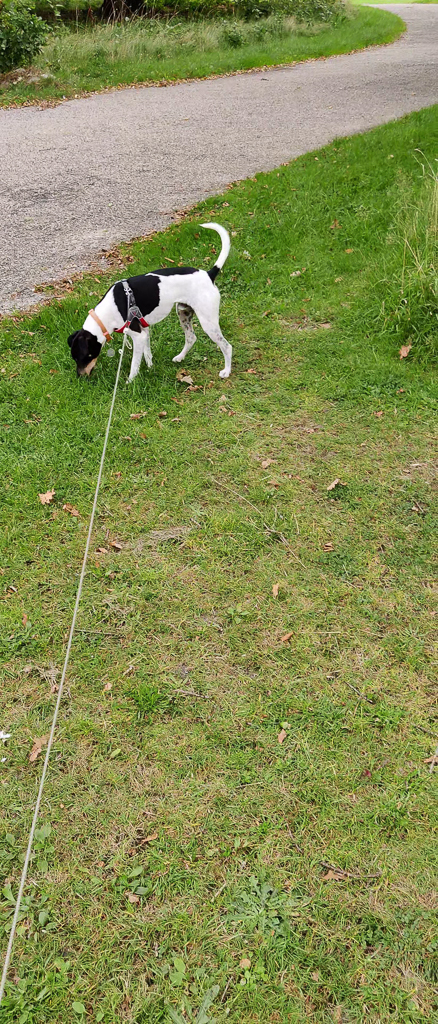Dog: (54, 206, 246, 397)
